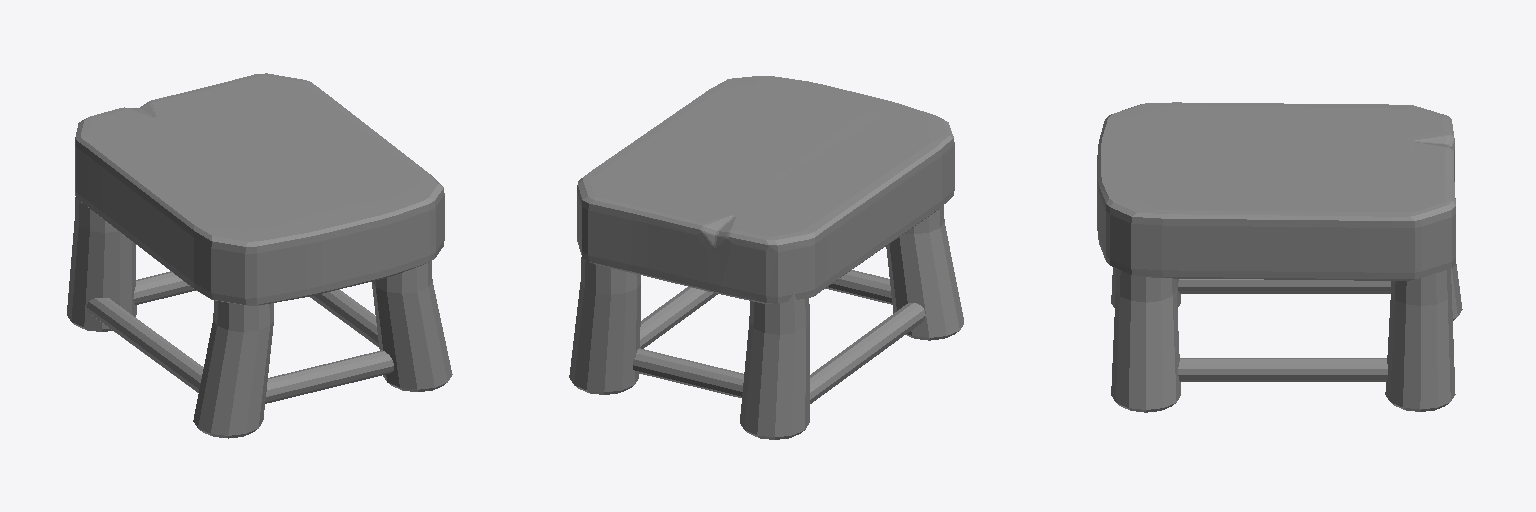
Rendered from stool_1.obj.
The picture shows the model from 3 angles: view 1: azimuth 30°, elevation 25°; view 2: azimuth 150°, elevation 25°; view 3: azimuth 270°, elevation 25°; orthographic projection.
Visible parts, largest first — view 1: Box03; view 2: Box03; view 3: Box03.
Part boxes in pixels (bbox=[...]): Box03: bbox=[67, 73, 452, 438]; Box03: bbox=[569, 76, 963, 439]; Box03: bbox=[1097, 102, 1462, 412].
Size of the model in its own units: 7.65 by 5.73 by 9.67.